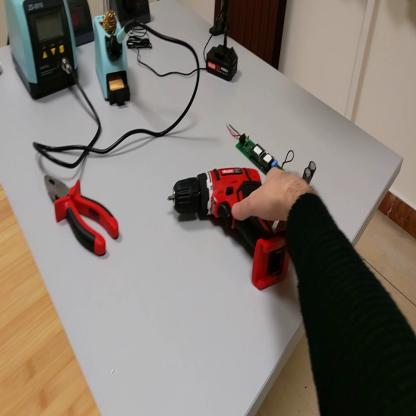electric screwdriver: (170, 166, 293, 290)
electric screwdriver battery: (206, 46, 238, 86)
hand: (229, 167, 306, 228)
high voltage board: (227, 129, 317, 191)
pliers: (44, 174, 120, 257)
socket: (68, 2, 96, 49), (120, 2, 152, 29)
welder base: (95, 9, 133, 107)
welder probe tip: (110, 18, 138, 53)
welder station: (4, 1, 79, 104)
working area: (2, 182, 100, 414)
